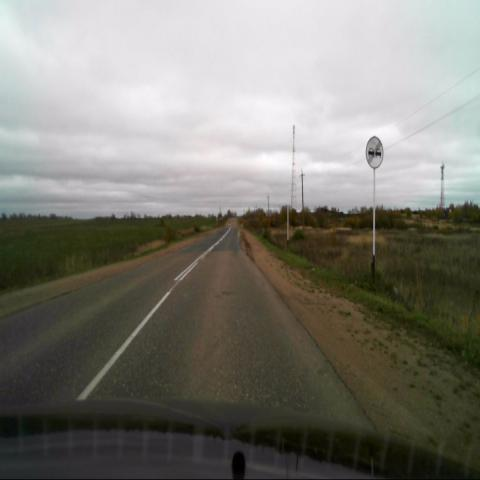3_21: (366, 136, 384, 169)
